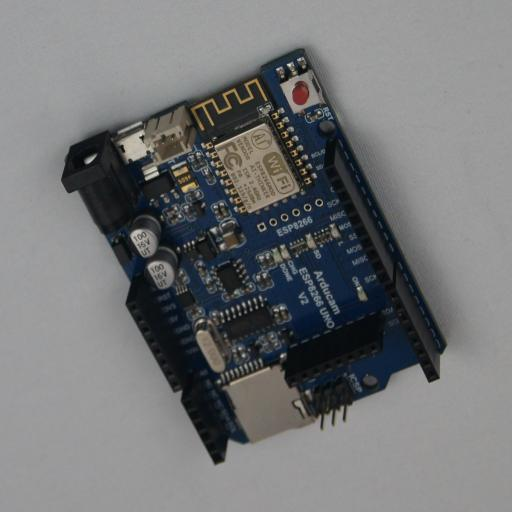Arduino Uno Camera Shield: (61, 48, 447, 465)
